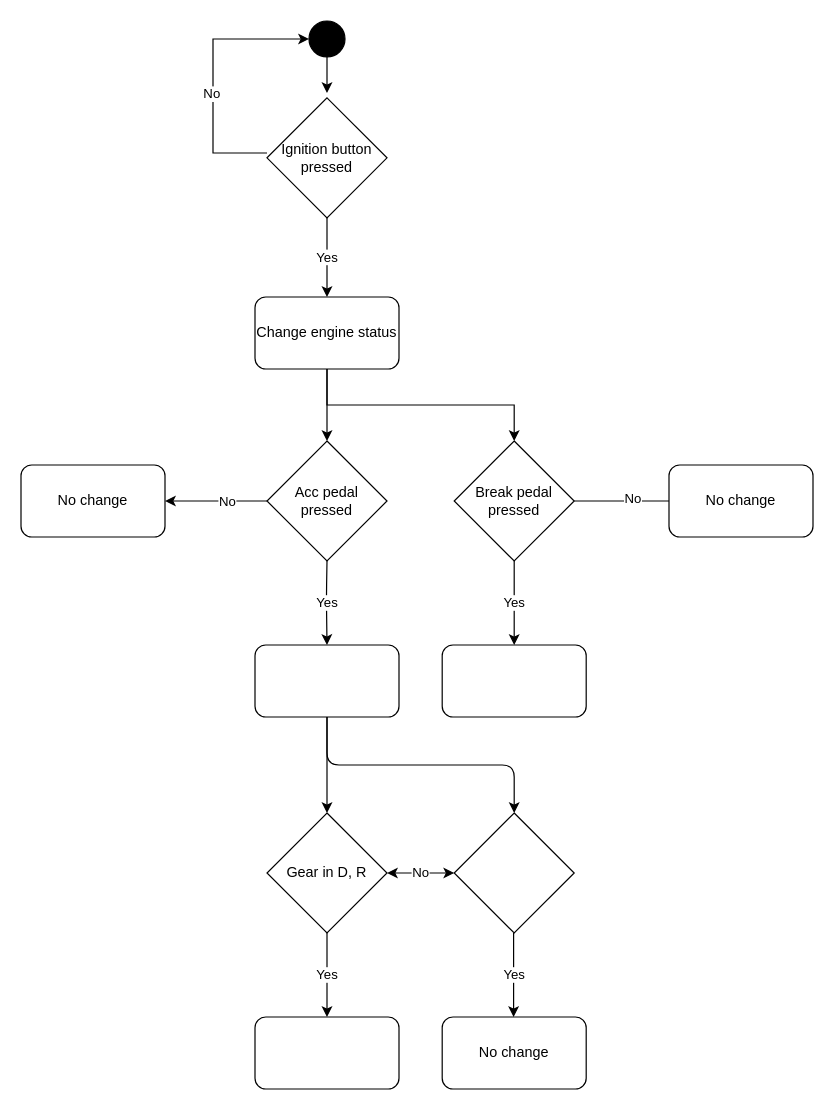
Image size: 834x1110. Some labels were removed from this diagram. The shapes that lost their labels are listed below. From the top down, each one's centre as x and y in pixels, then its label:
point 326,680: Increase RPM
point 513,680: Decrease speed
point 513,872: Gear in N, P
point 326,1052: Calculate speed based on RPM and gear
